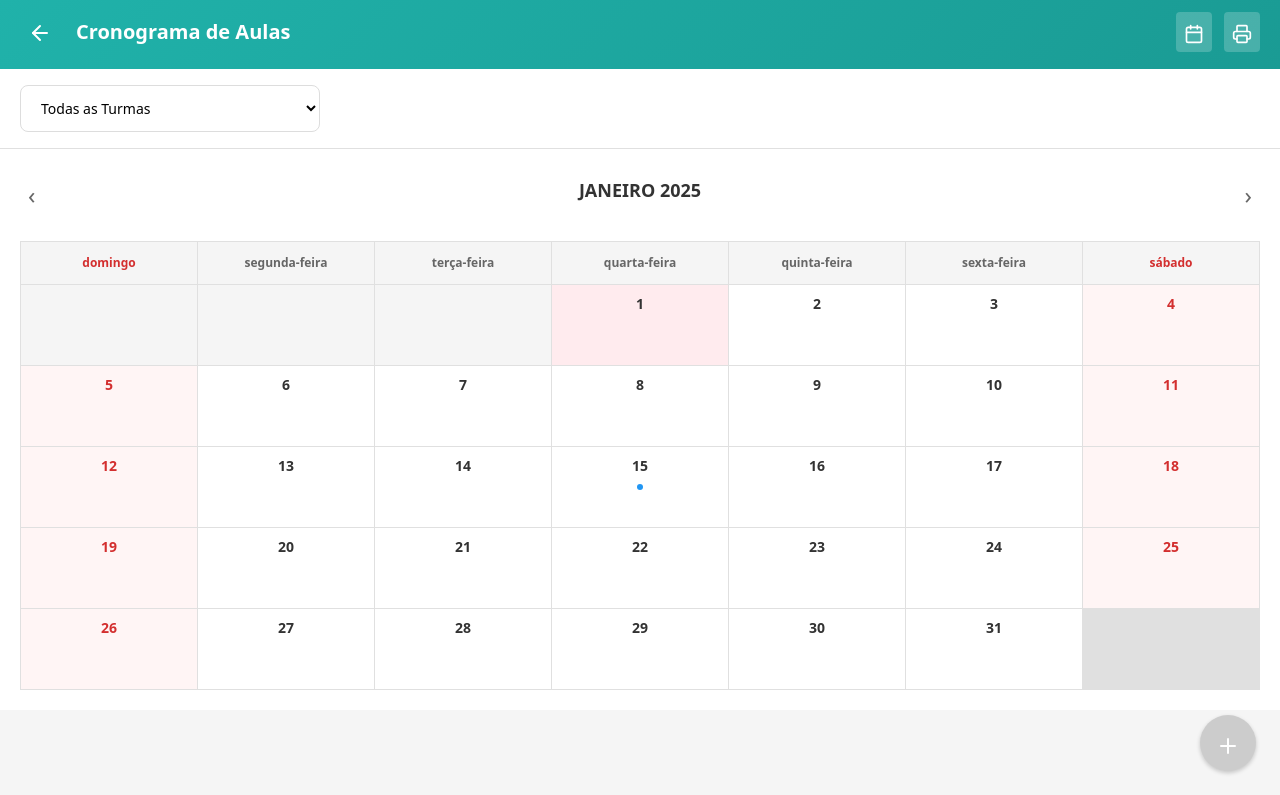
Scenario: CronogramaPage › abre dialog de confirmação de exclusão
Click the text "15".
click(640, 465)  # box top-left (632, 455), bottom-right (648, 476)
(page scrolled)
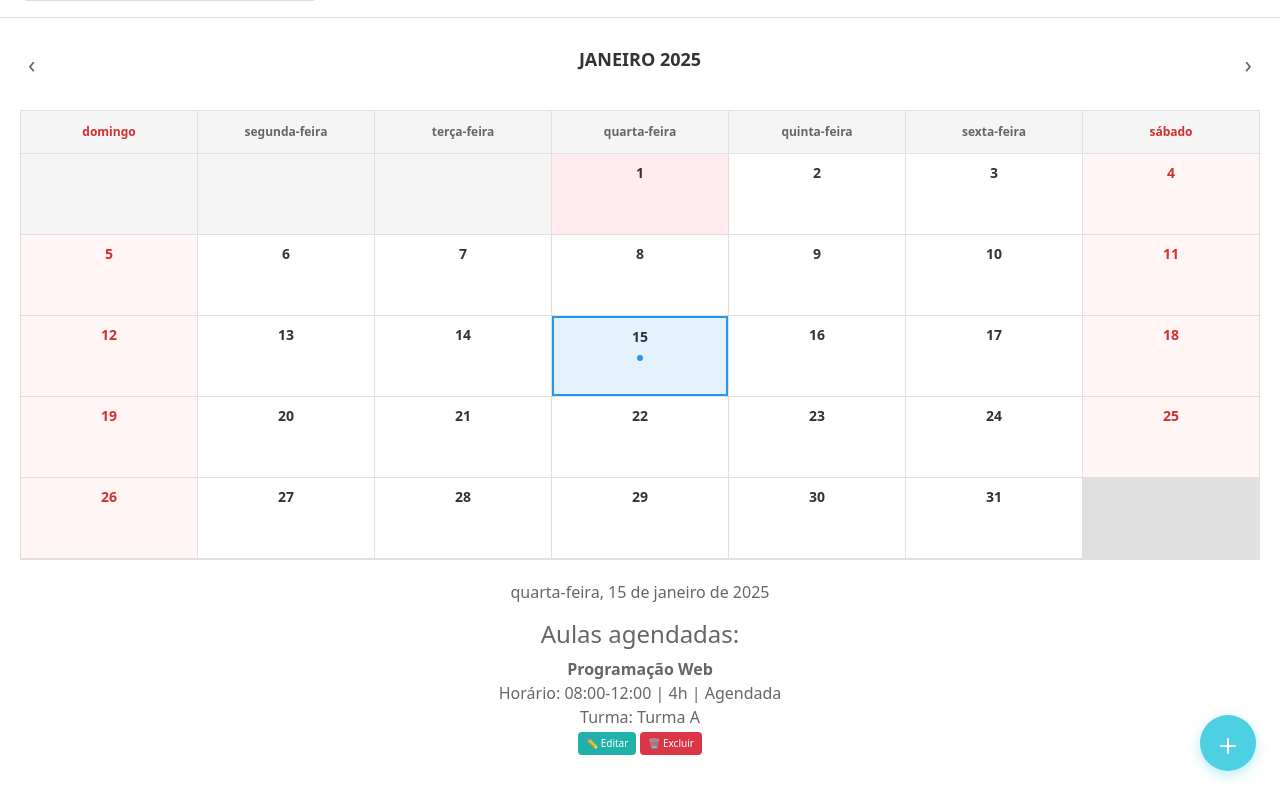
Click the button "🗑️ Excluir".
click(671, 743)  # box top-left (640, 732), bottom-right (702, 754)
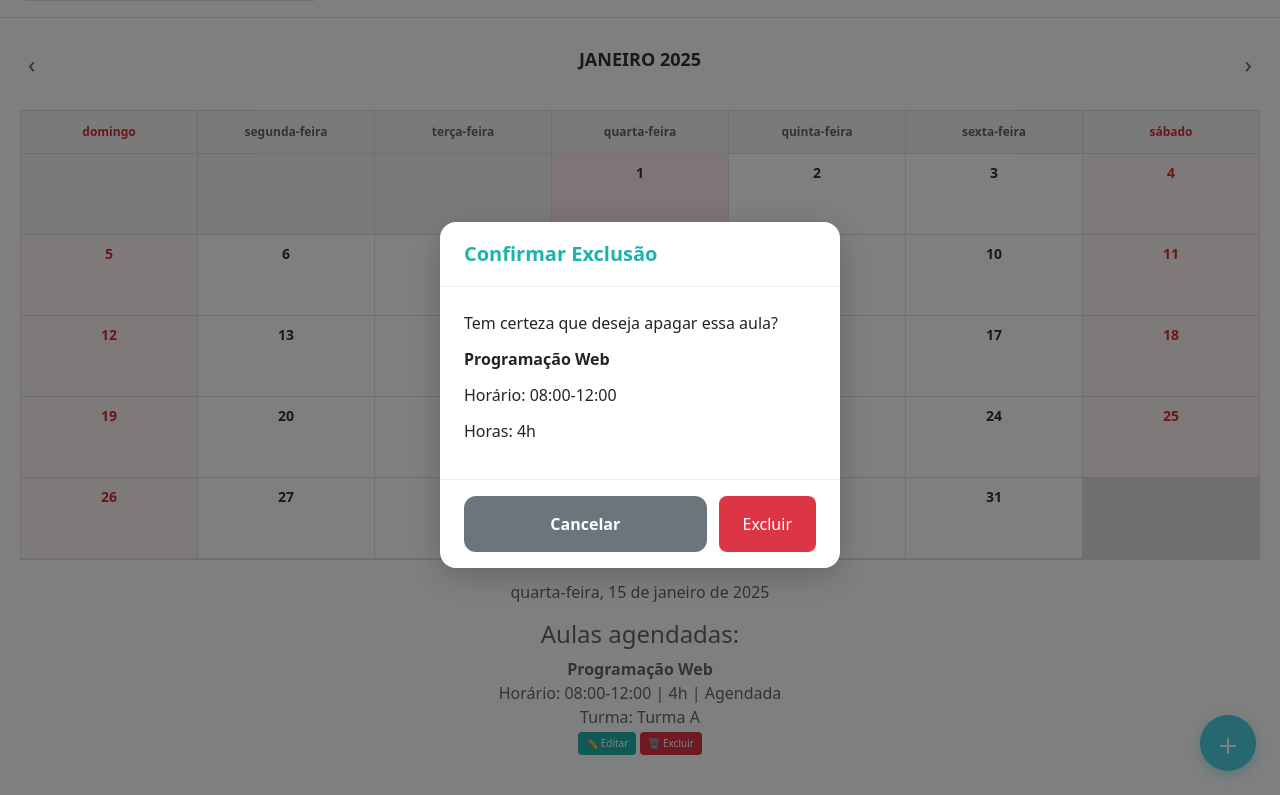
Expected: the heading "Confirmar Exclusão" is shown, top-left (464, 242), bottom-right (658, 266)
